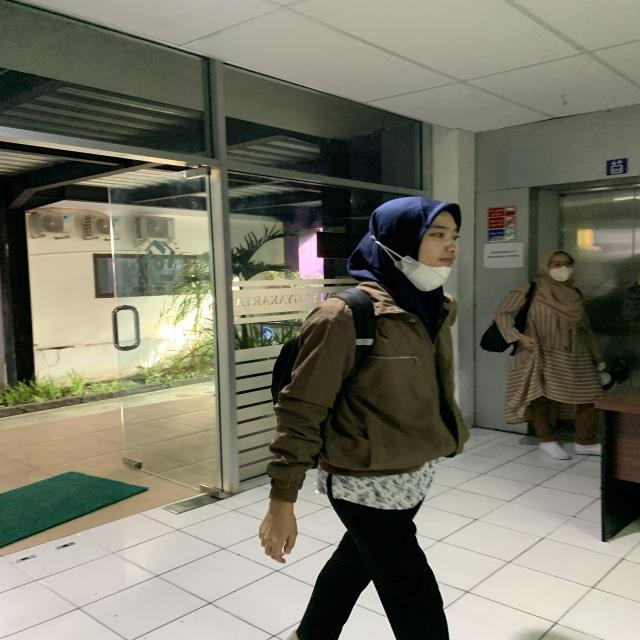hairnet: (368, 196, 465, 290)
